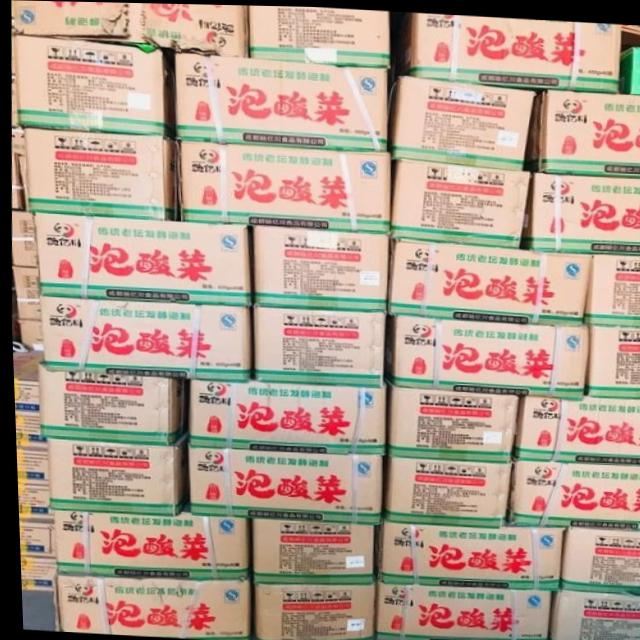box: (174, 50, 386, 149), (32, 212, 250, 305), (172, 141, 387, 232), (37, 295, 251, 380), (384, 238, 590, 322), (411, 10, 622, 87), (390, 313, 587, 394), (186, 443, 379, 521), (16, 37, 166, 136), (23, 125, 178, 219), (186, 380, 383, 451), (49, 508, 246, 578), (392, 73, 536, 167), (374, 518, 560, 588), (11, 0, 248, 54), (387, 156, 527, 247), (32, 363, 184, 444), (50, 577, 245, 640), (252, 226, 387, 310), (43, 438, 185, 514), (250, 306, 382, 385), (370, 581, 546, 640), (385, 382, 516, 458), (502, 460, 640, 529), (530, 169, 640, 253), (536, 85, 640, 173), (509, 394, 640, 462), (381, 454, 508, 522), (248, 4, 387, 66), (248, 518, 369, 582), (247, 581, 371, 640), (553, 525, 640, 593), (544, 589, 640, 640), (584, 323, 640, 395), (584, 255, 640, 326), (10, 351, 40, 412), (15, 517, 52, 559), (14, 477, 48, 518), (9, 211, 34, 266), (11, 268, 37, 319), (16, 556, 53, 591), (13, 440, 43, 479), (619, 43, 640, 90), (16, 319, 42, 351), (12, 411, 37, 439)
